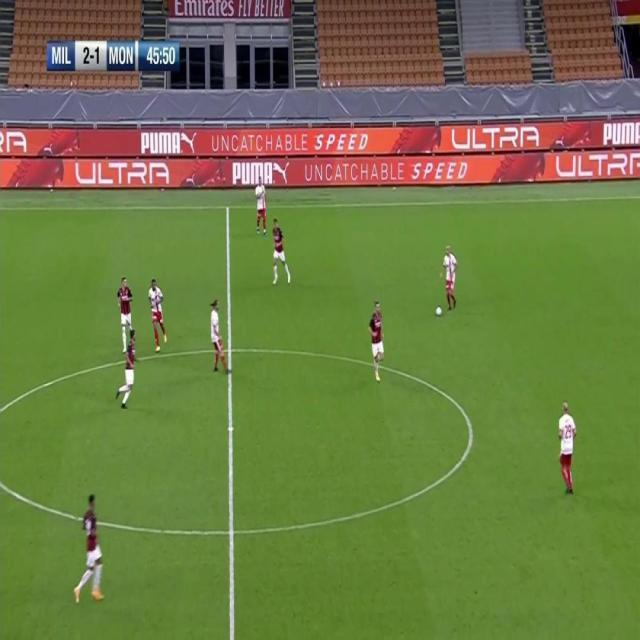ball: (435, 303, 444, 319)
player: (74, 496, 106, 609), (557, 399, 578, 497), (115, 326, 137, 408), (147, 276, 169, 351), (367, 299, 386, 383), (270, 217, 292, 287), (209, 299, 229, 374), (118, 274, 137, 351), (440, 242, 459, 311), (254, 176, 268, 239)
